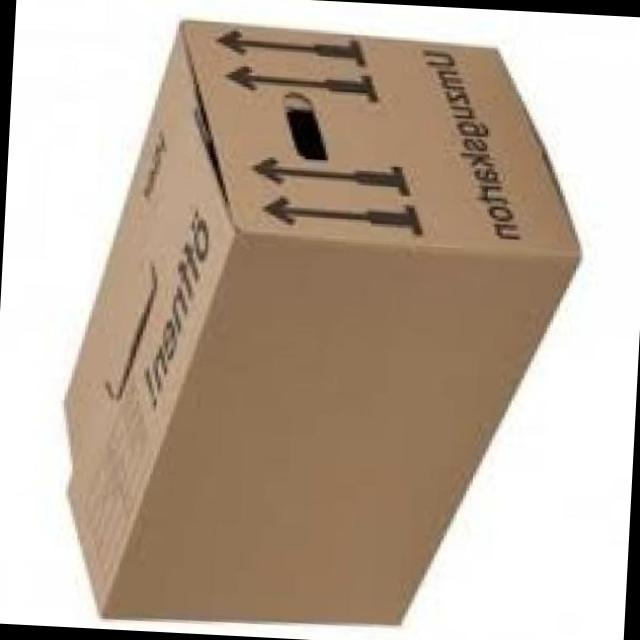cardboard paper: (64, 20, 576, 622)
